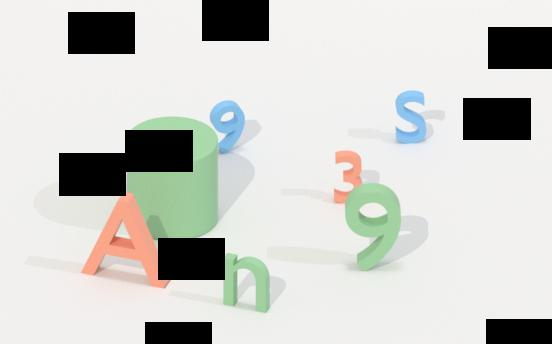3: (331, 148, 365, 206)
9: (344, 180, 404, 275), (207, 96, 248, 156)
A-hoa: (80, 189, 173, 292)
n: (222, 250, 274, 316)
s: (394, 87, 430, 147)
tru: (123, 113, 222, 244)
